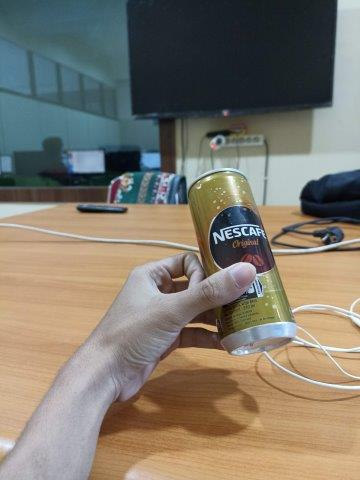kaleng: (187, 168, 296, 356)
